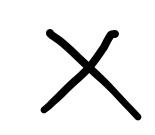mult: (41, 29, 141, 121)
